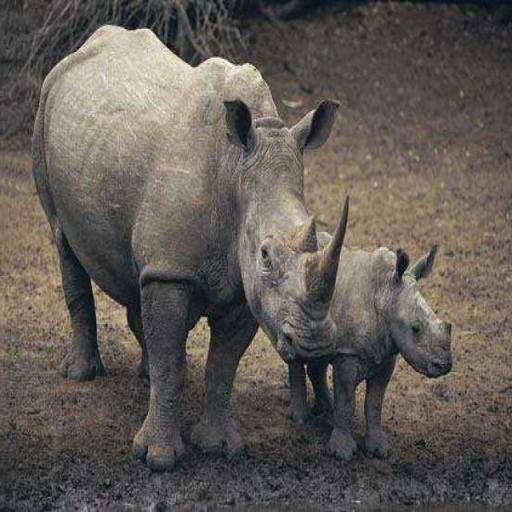Rhino: (28, 22, 350, 472), (278, 193, 452, 463)
